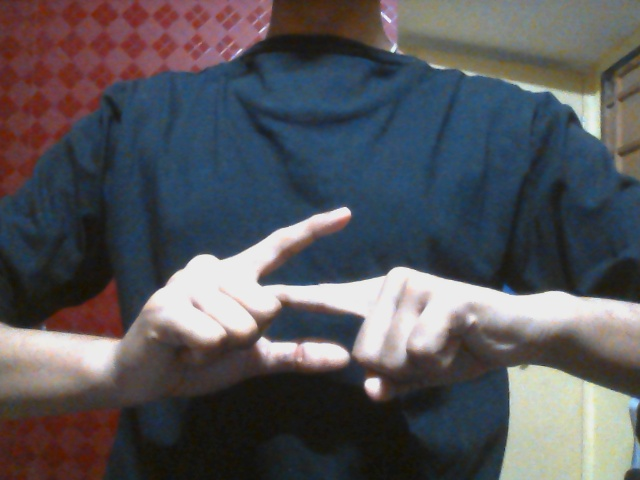E: (132, 206, 499, 404)
